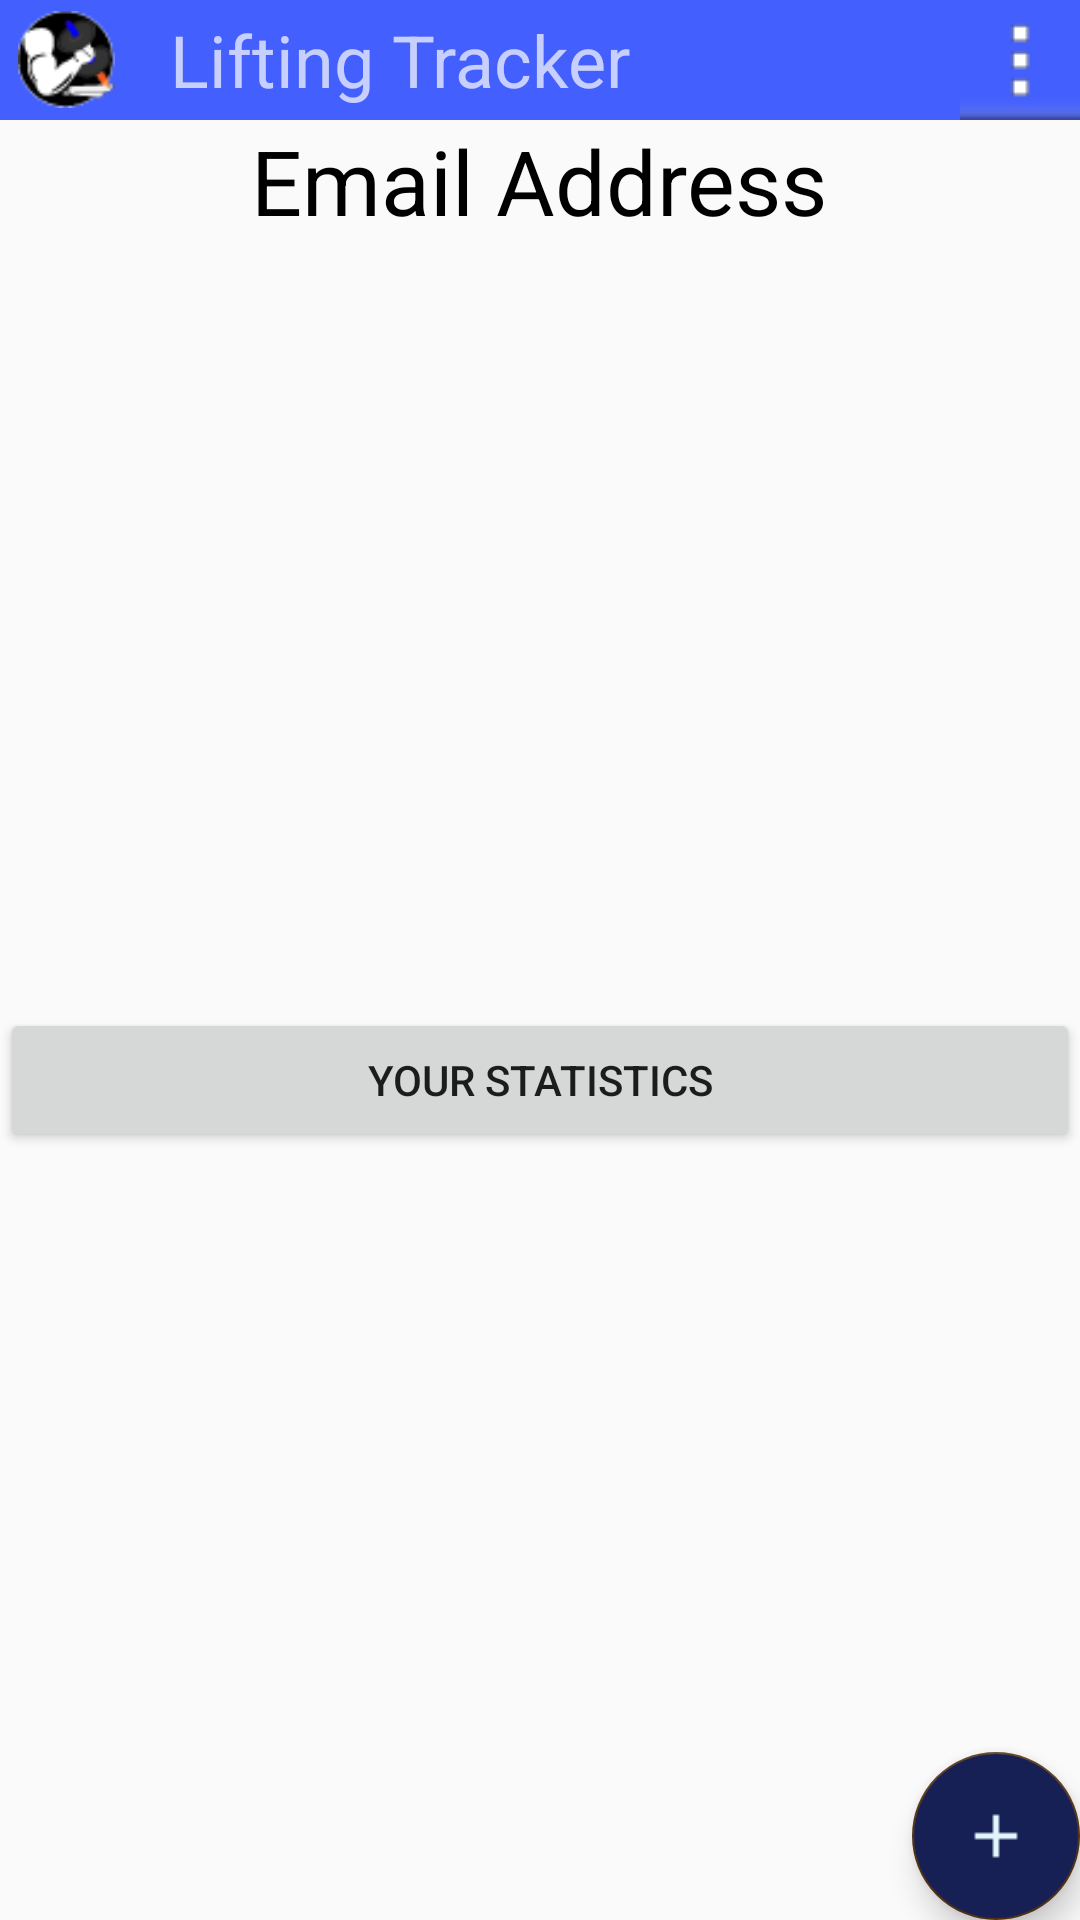

Screen size 1080 × 1920. Icon name, then its center in pixels as [x,y]:
dots: [1020,60]
plus: [996,1836]
